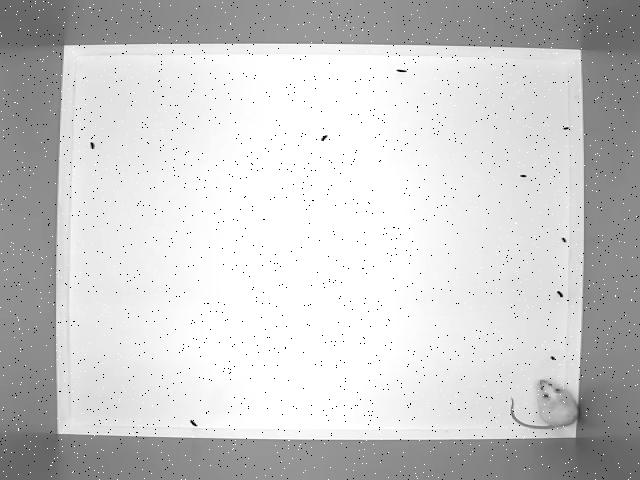Tikus: (504, 374, 582, 432)
